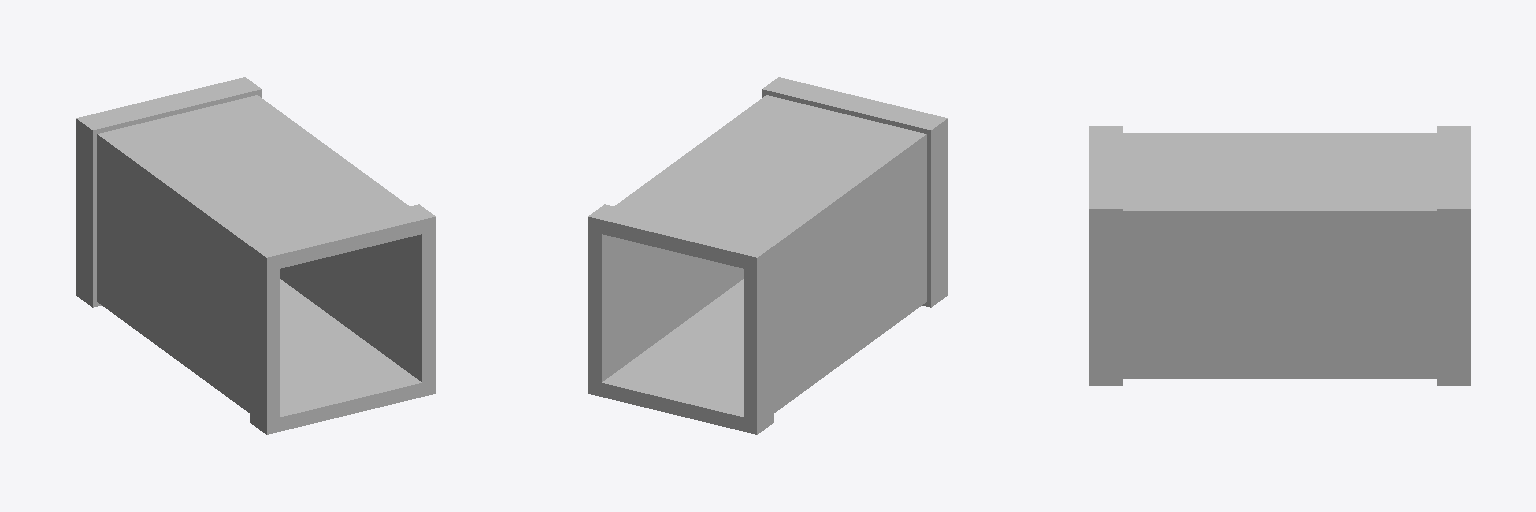
File: Vent-01.obj
3 renders of one model, left to right at view 1: azimuth 30°, elevation 25°; view 2: azimuth 150°, elevation 25°; view 3: azimuth 270°, elevation 25°, orthographic.
Visible parts, largest first — view 1: Vent-01_Cube.010; view 2: Vent-01_Cube.010; view 3: Vent-01_Cube.010.
Part boxes in pixels (left/top/right/bottom): Vent-01_Cube.010: left=76, top=77, right=435, bottom=434; Vent-01_Cube.010: left=588, top=77, right=947, bottom=434; Vent-01_Cube.010: left=1089, top=126, right=1470, bottom=385.
Bounding box in the file's own units: 1.69 × 1.69 × 3.29.